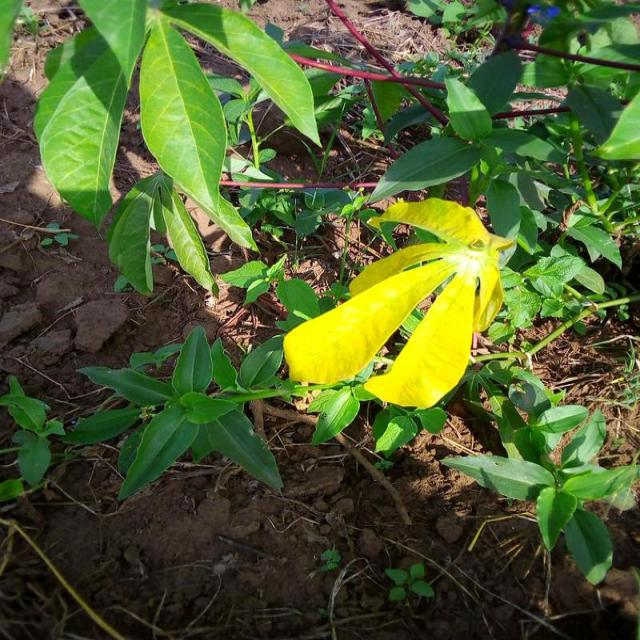cassava leaf: (281, 195, 516, 411)
